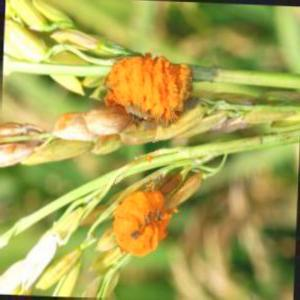Leaf_Scald: (114, 55, 186, 128), (109, 190, 178, 258)
